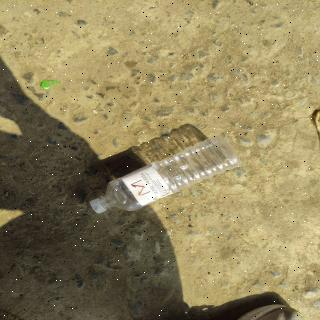Plastic-bottle: (84, 133, 246, 218)
